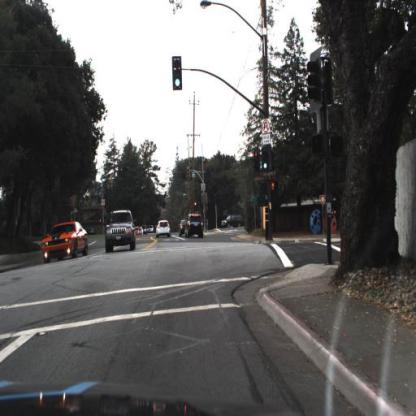car: (41, 221, 89, 266), (104, 208, 137, 253), (185, 214, 205, 240), (222, 213, 244, 229), (155, 219, 171, 239), (178, 220, 187, 238), (136, 225, 141, 237)
trafficLight-Green: (172, 56, 183, 90), (262, 146, 271, 172)
